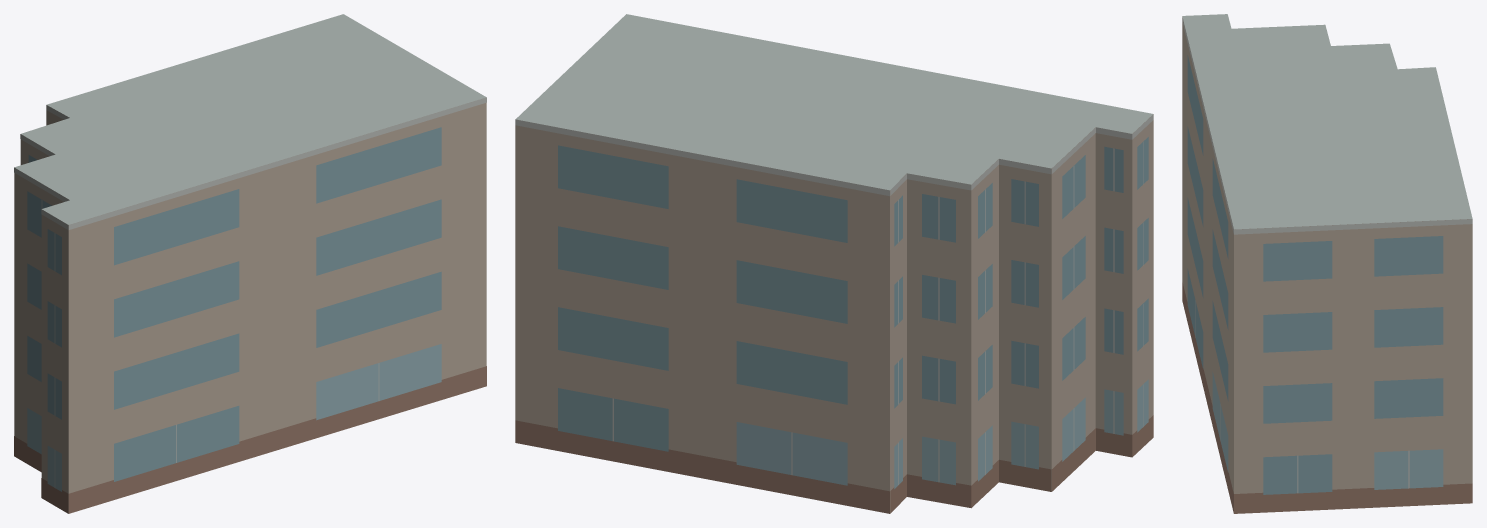
File: survey-upis-33044927.glb
The picture shows the model from 3 angles, left to right: view 1: azimuth 30°, elevation 25°; view 2: azimuth 150°, elevation 25°; view 3: azimuth 270°, elevation 25°; orthographic projection. The views are drawn at different scales.
Parts seen in each view (by area): view 1: survey-upis-33044927.tmp; view 2: survey-upis-33044927.tmp; view 3: survey-upis-33044927.tmp.
Part boxes in pixels (box(x1,y1,x2,y2)): survey-upis-33044927.tmp: box(14, 14, 486, 513); survey-upis-33044927.tmp: box(515, 14, 1153, 513); survey-upis-33044927.tmp: box(1182, 14, 1472, 513).
Bounding box in the file's own units: 21.78 × 13.4 × 12.41.
